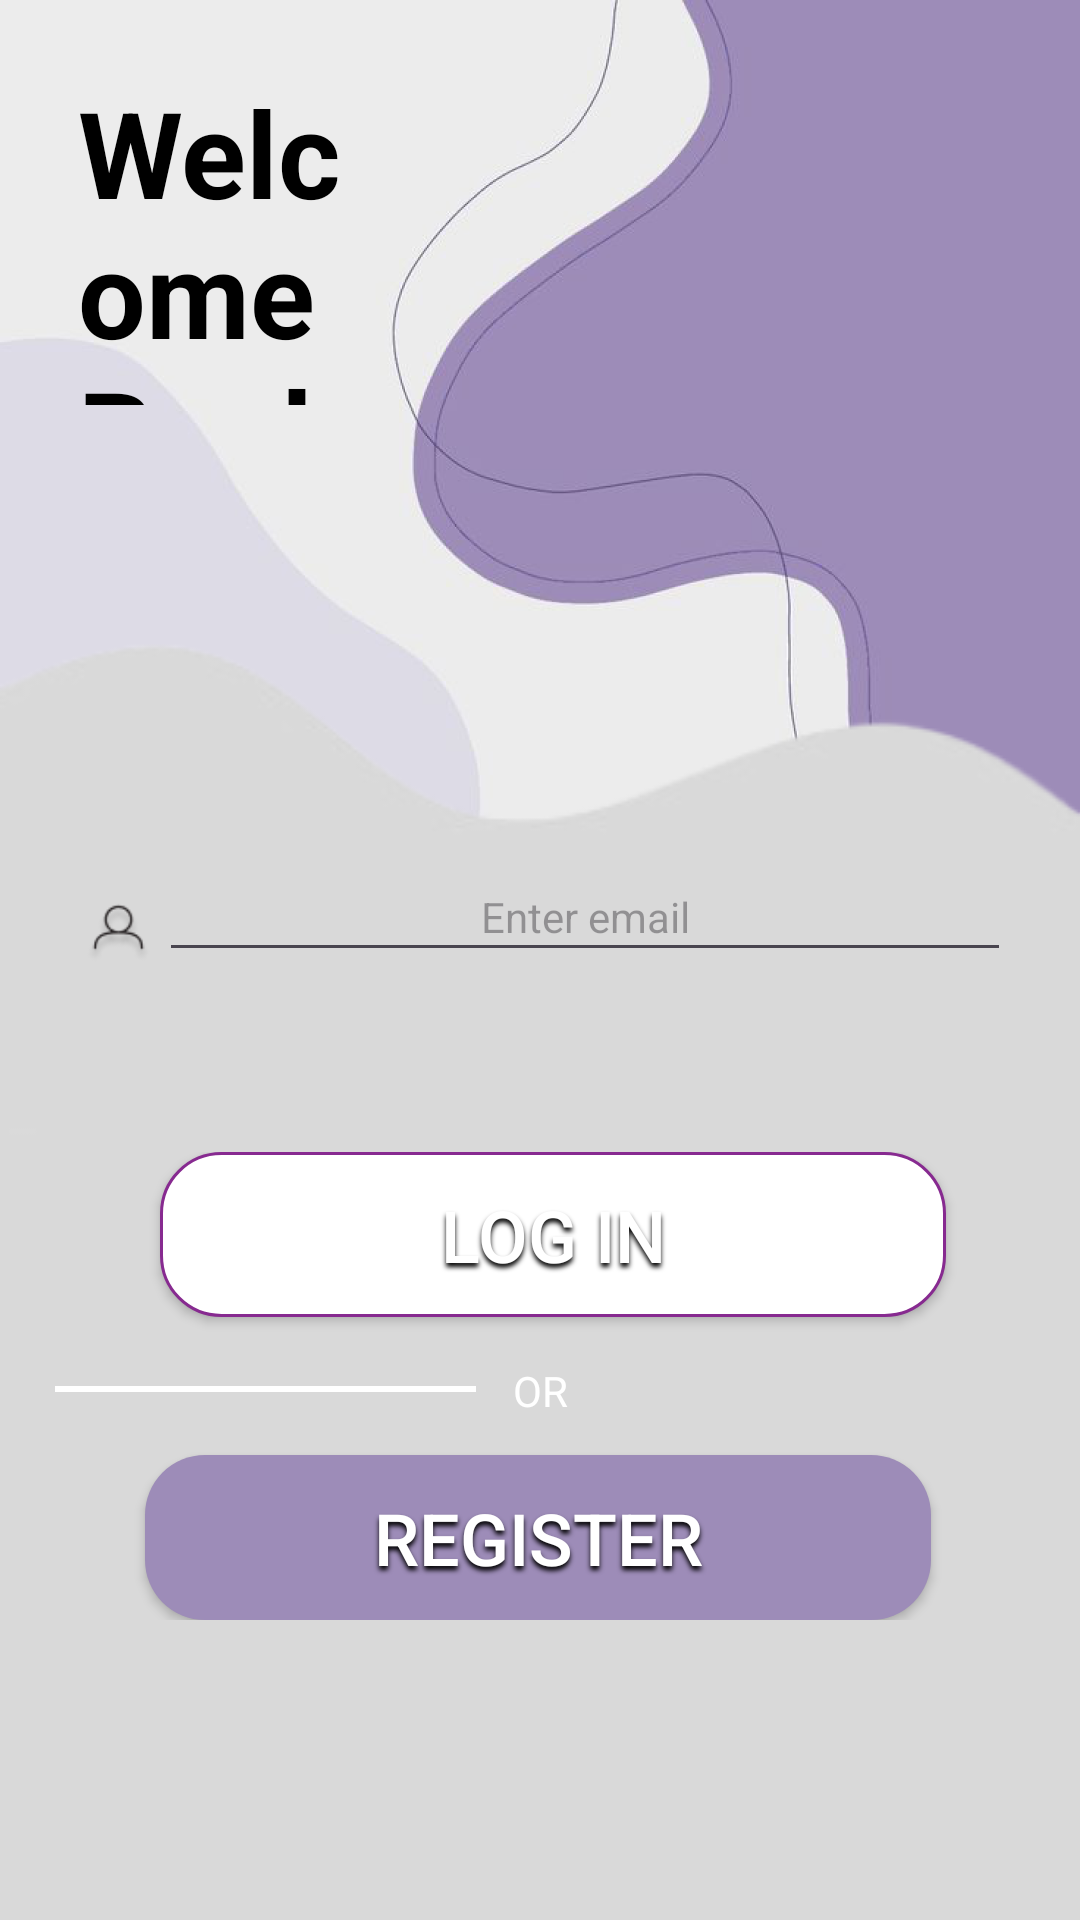

Named icons in this screenshot (1080*1920) and their centers, [x,y]:
usericon: [118,927]
